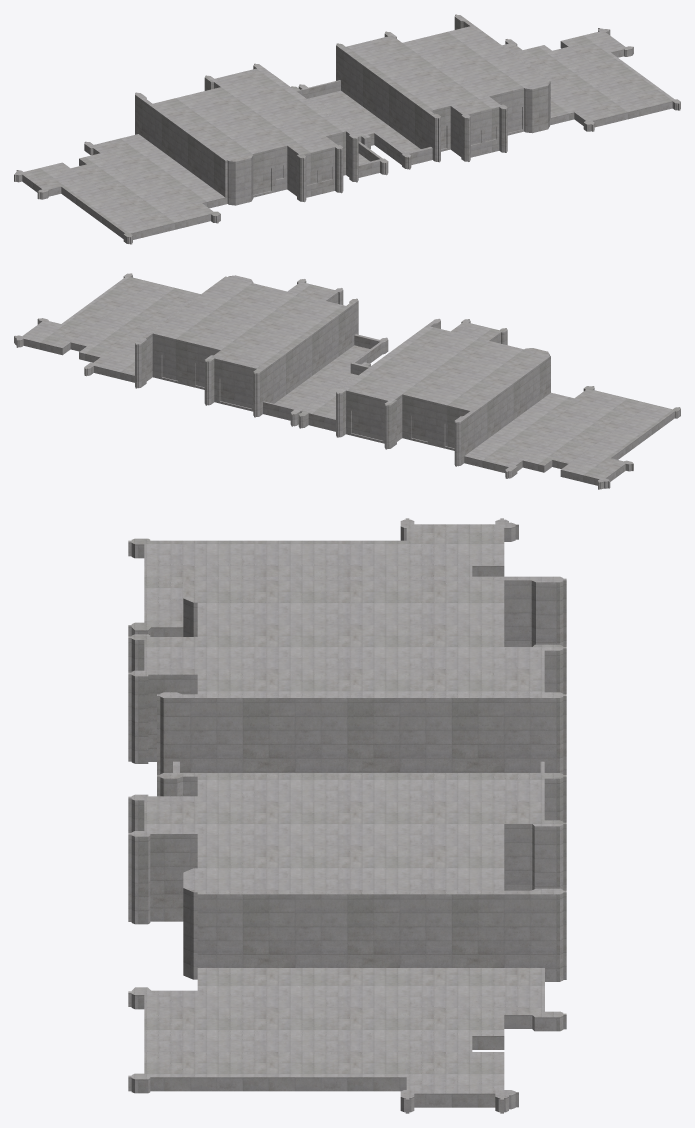
The model's file is BLD-2-Rooftop.FBX.
The picture shows the model from 3 angles, top to bottom: view 1: azimuth 30°, elevation 25°; view 2: azimuth 150°, elevation 25°; view 3: azimuth 270°, elevation 25°; orthographic projection. The views are drawn at different scales.
Visible parts, largest first — view 1: BLD-2-Exterior-Type-Roof; view 2: BLD-2-Exterior-Type-Roof; view 3: BLD-2-Exterior-Type-Roof.
Boxes of the visible parts, x1=… form: BLD-2-Exterior-Type-Roof: x1=14, y1=14, x2=680, y2=244; BLD-2-Exterior-Type-Roof: x1=14, y1=273, x2=680, y2=489; BLD-2-Exterior-Type-Roof: x1=128, y1=518, x2=566, y2=1113.
Bounding box in the file's own units: 43.78 × 3.08 × 13.95.
